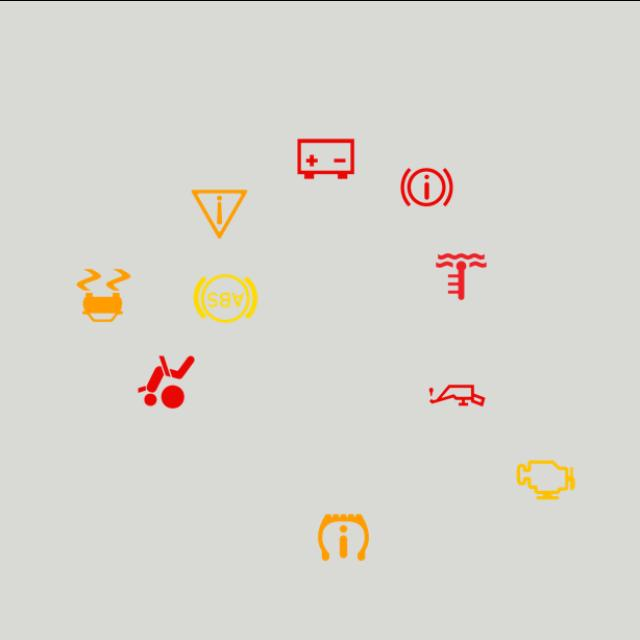Anti Lock Braking System: (190, 262, 260, 332)
Braking System Issue: (392, 151, 462, 221)
Charging System Issue: (290, 123, 360, 193)
Check Engine: (510, 444, 580, 514)
Electronic Stability Problem -ESP-: (68, 260, 138, 330)
Engine Overheating Warning Light: (426, 240, 496, 310)
Low Engine Oil Warning Light: (422, 360, 492, 430)
Low Tire Pressure Warning Light: (308, 502, 378, 572)
Master warning light: (184, 178, 254, 248)
SRS-Airbag: (132, 346, 202, 416)
